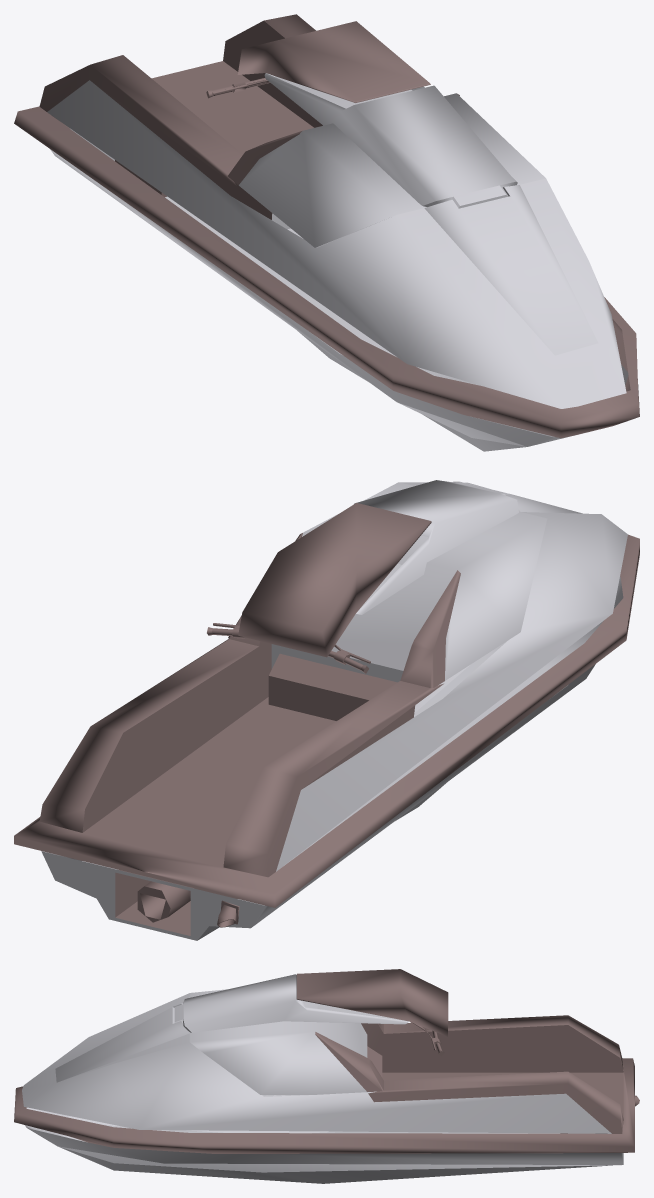
The model's file is bay-jetski.lod0.glb.
The picture shows the model from 3 angles, top to bottom: view 1: azimuth 30°, elevation 25°; view 2: azimuth 150°, elevation 25°; view 3: azimuth 270°, elevation 25°; orthographic projection. The views are drawn at different scales.
Visible parts, largest first — view 1: V1_JetSki_1_Body_1_Vehicle_Elements_1_0; view 2: V1_JetSki_1_Body_1_Vehicle_Elements_1_0; view 3: V1_JetSki_1_Body_1_Vehicle_Elements_1_0.
Part boxes in pixels (x1,y1,x2,y2): V1_JetSki_1_Body_1_Vehicle_Elements_1_0: (14, 14, 639, 451); V1_JetSki_1_Body_1_Vehicle_Elements_1_0: (14, 480, 639, 940); V1_JetSki_1_Body_1_Vehicle_Elements_1_0: (14, 969, 639, 1183).
Bounding box in the file's own units: 0.9717 × 0.9811 × 2.97.
